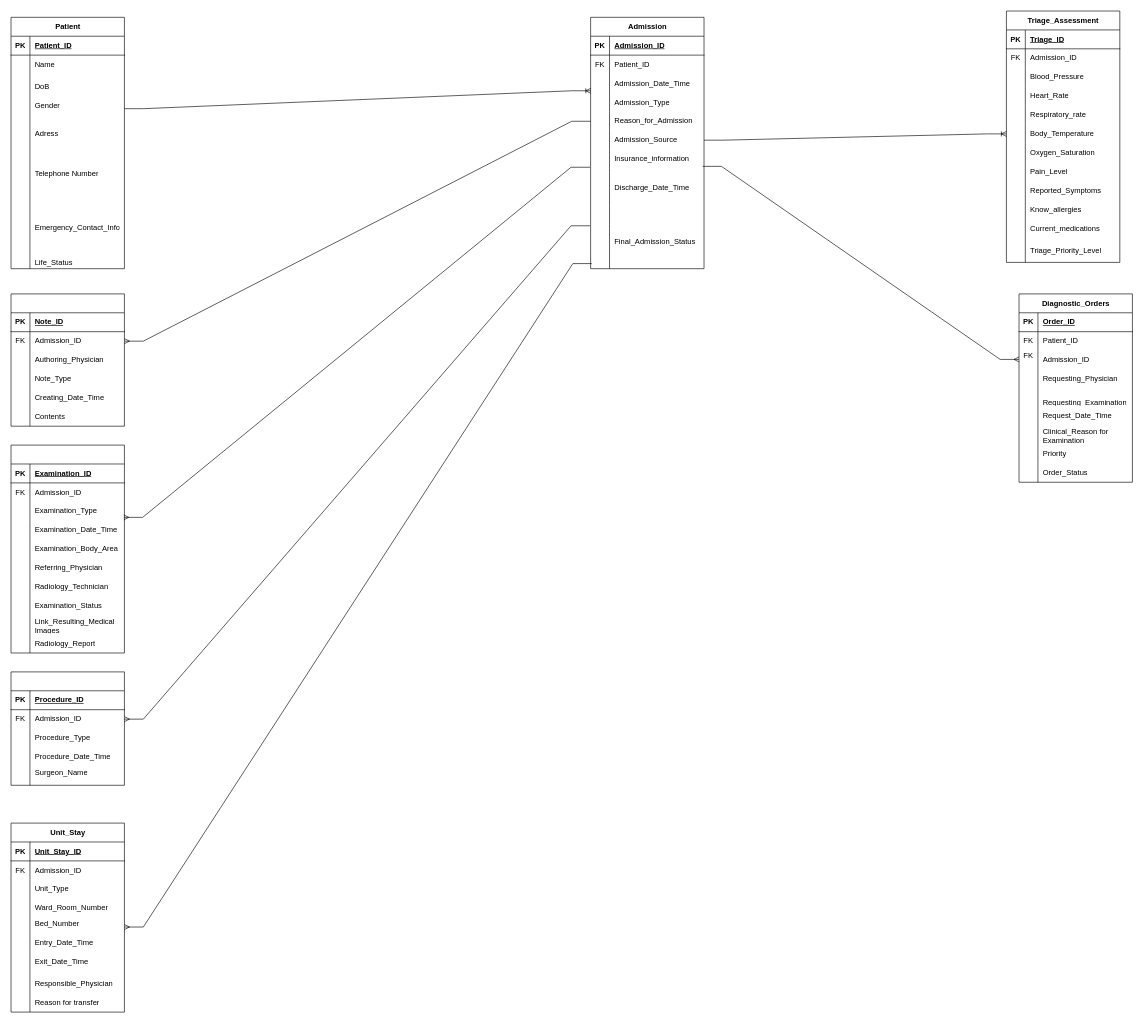
Some shapes in this 1143 by 1023 pixel diagram are drawn without their labels. Each missing label, with the box of its shape:
Clinical Note: (10, 293, 124, 426)
Radiology_Examination: (10, 444, 124, 653)
Surgical_Procedure: (10, 671, 124, 785)
